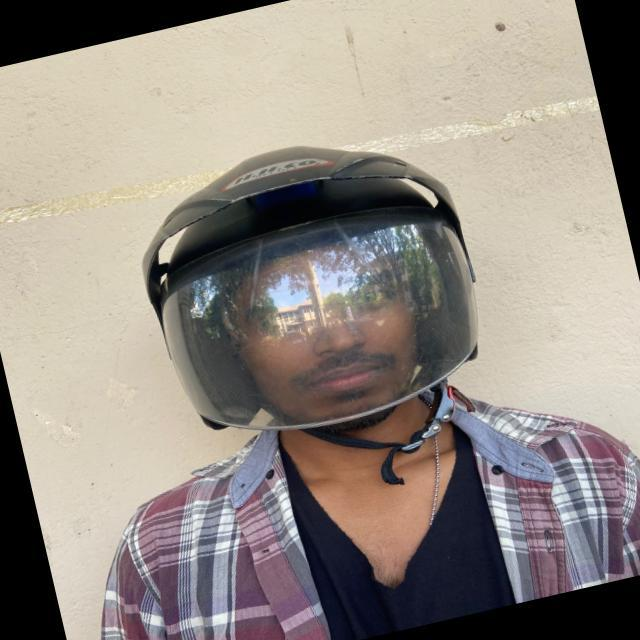WITH_HELMET: (115, 94, 513, 462)
